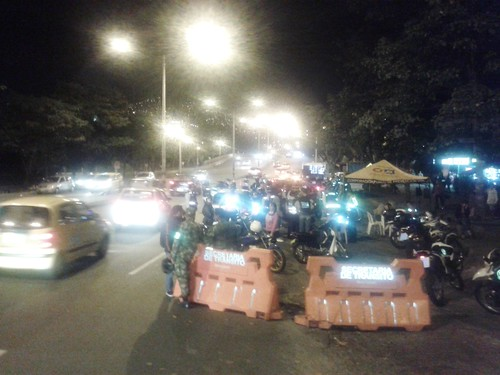car: (1, 192, 123, 274)
motorcycle: (412, 234, 471, 296), (285, 224, 356, 268), (468, 246, 500, 314)
